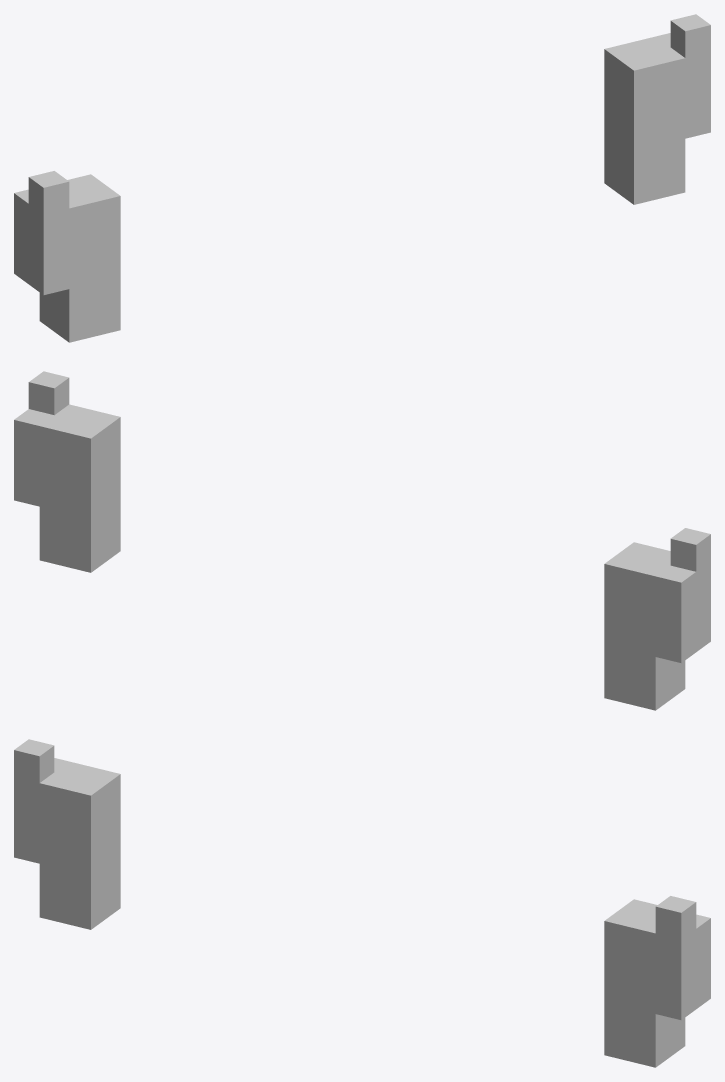
3 views of the same model, one above another, from view 1: azimuth 30°, elevation 25°; view 2: azimuth 150°, elevation 25°; view 3: azimuth 330°, elevation 25° (orthographic).
Parts seen in each view (by area): view 1: 24.1; view 2: 24.1; view 3: 24.1.
Boxes of the visible parts, x1,y1,x2,y2 form: 24.1: (14, 14, 710, 342); 24.1: (14, 371, 710, 710); 24.1: (14, 739, 710, 1067).
Bounding box in the file's own units: 260 × 60 × 20.
Materials: 1 (1 with a texture image).
